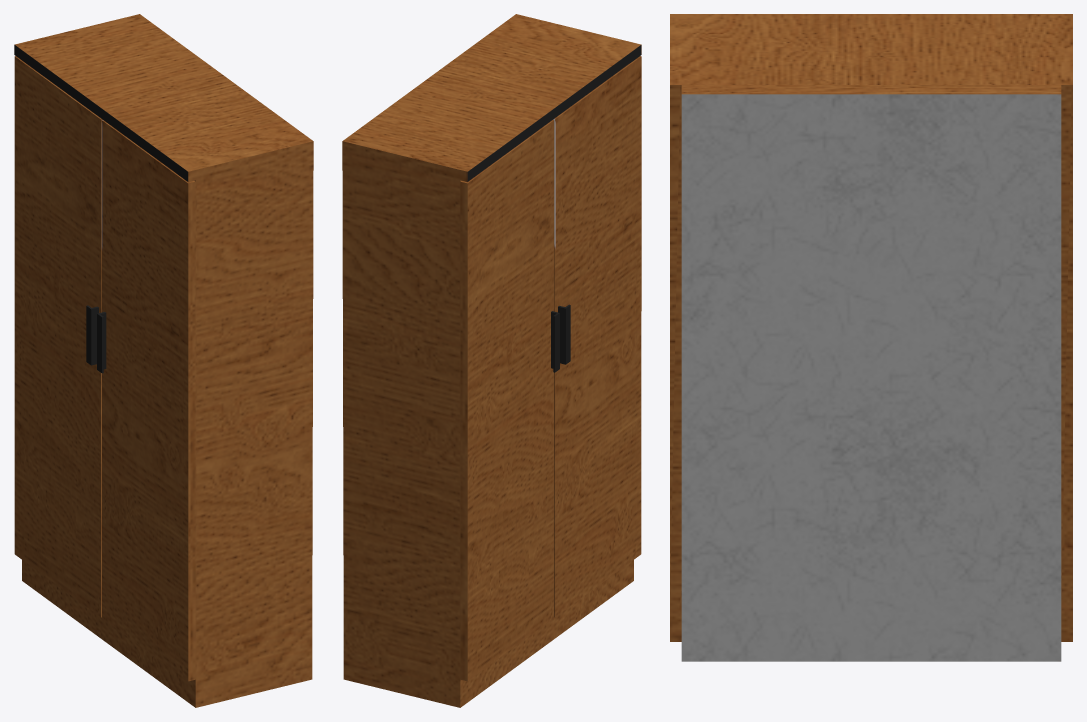
Rendered from wardob1.glb.
3 renders of one model, left to right at view 1: azimuth 30°, elevation 25°; view 2: azimuth 150°, elevation 25°; view 3: azimuth 270°, elevation 25°, orthographic. The views are drawn at different scales.
Visible parts, largest first — view 1: shkaf.005, shkaf.006, shkaf.007; view 2: shkaf.005, shkaf.007, shkaf.006; view 3: shkaf.005, shkaf.006, shkaf.007.
Boxes of the visible parts, x1,y1,x2,y2 form: shkaf.005: (14, 14, 313, 707); shkaf.006: (97, 120, 195, 681); shkaf.007: (14, 56, 102, 617); shkaf.005: (342, 14, 641, 707); shkaf.007: (460, 120, 559, 681); shkaf.006: (553, 56, 641, 617); shkaf.005: (670, 14, 1072, 661); shkaf.006: (670, 85, 681, 609); shkaf.007: (1061, 85, 1072, 596).
Bounding box in the file's own units: 0.5306 × 2.05 × 1.2.
Materials: 1 (1 with a texture image).
